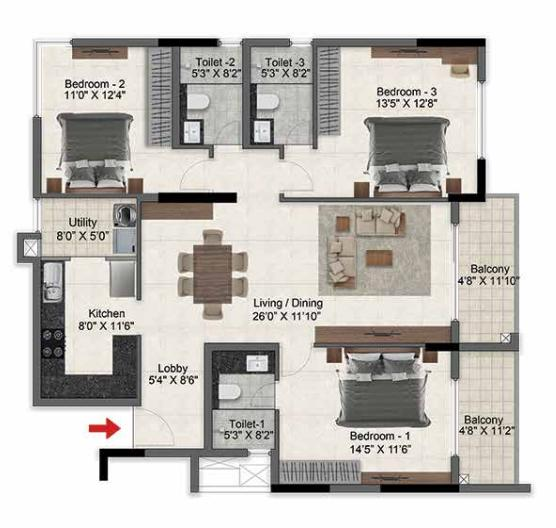Balcony: (450, 196, 514, 345), (458, 347, 516, 489)
Bed: (364, 115, 451, 198), (338, 352, 428, 427), (55, 112, 135, 194)
Bedroom: (317, 42, 484, 201), (277, 345, 455, 486), (37, 42, 176, 197)
Dining Room: (136, 195, 276, 337)
Dining table: (171, 226, 255, 324)
Kitchen: (39, 257, 139, 405)
Living Room: (277, 200, 456, 345)
Sofa: (328, 234, 356, 288), (355, 209, 405, 238)
Wardrobe: (148, 45, 172, 146), (317, 47, 341, 136), (278, 462, 362, 485)
commode: (185, 95, 212, 111), (256, 93, 279, 110), (218, 385, 241, 402)
door: (135, 407, 178, 447), (178, 158, 215, 191), (279, 345, 315, 377), (281, 160, 315, 192), (212, 119, 240, 148), (283, 118, 311, 145)
fridge: (109, 261, 135, 297)
kitchen-slab: (38, 257, 65, 397), (40, 376, 137, 401), (112, 334, 137, 399)
lobby: (138, 336, 204, 450)
sink: (42, 262, 63, 305), (183, 122, 201, 143), (247, 356, 268, 373), (255, 122, 271, 143)
stove: (39, 329, 65, 360)
toilet: (175, 41, 246, 197), (247, 42, 314, 199), (206, 342, 277, 450)
tv: (314, 326, 452, 342), (372, 46, 475, 62), (362, 472, 451, 485), (72, 45, 128, 58)
utility: (37, 198, 137, 256)
washing-machine: (113, 204, 137, 228)
